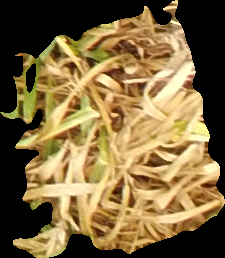soil: (1, 1, 225, 257)
